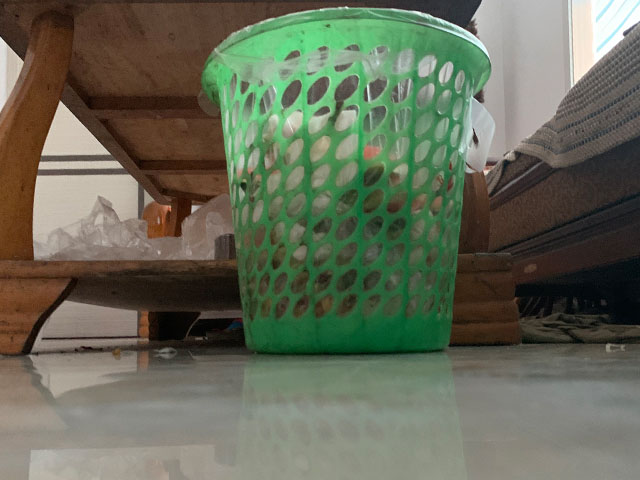sofa: (485, 19, 640, 300)
table: (1, 1, 525, 357)
trashcan: (200, 5, 493, 355)
